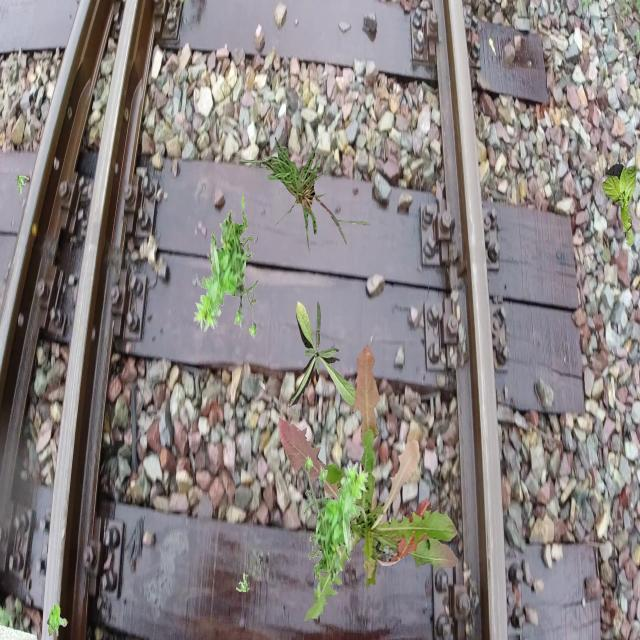Plant: (279, 343, 459, 621), (227, 136, 370, 255), (304, 454, 368, 598), (194, 196, 258, 339), (287, 300, 358, 408), (601, 164, 636, 248), (47, 604, 68, 637), (15, 175, 29, 195), (236, 572, 250, 592)
